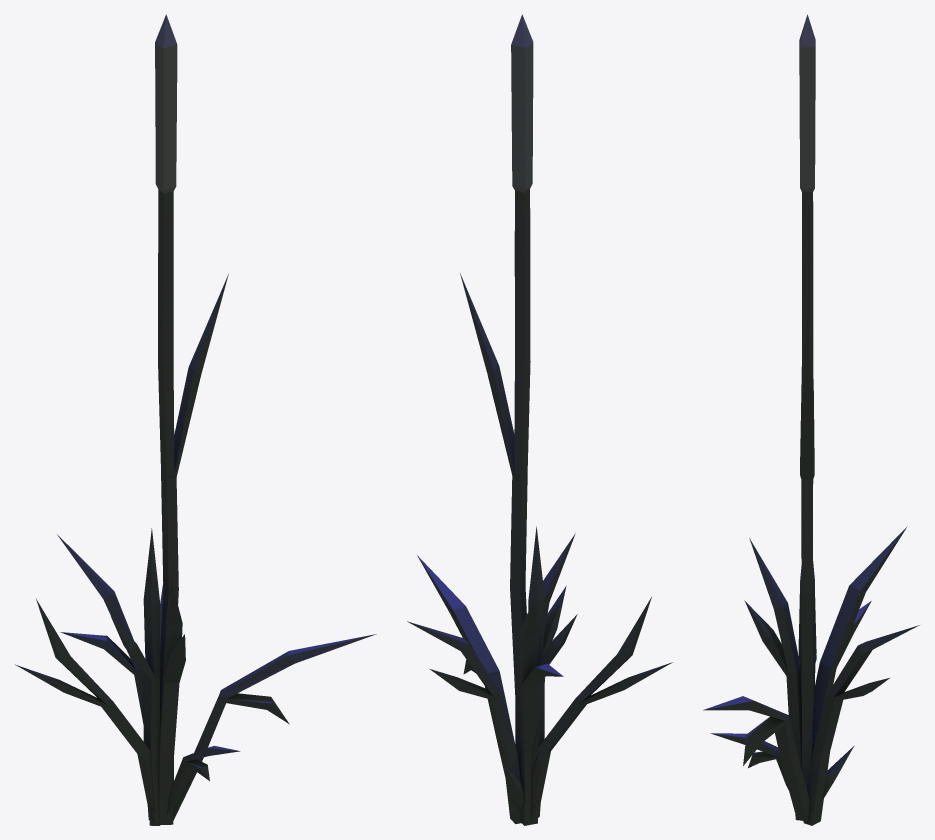
The model's file is westernwheatgrass-night.glb.
3 views of the same model, side by side, from view 1: azimuth 30°, elevation 25°; view 2: azimuth 150°, elevation 25°; view 3: azimuth 270°, elevation 25° (orthographic).
Parts seen in each view (by area): view 1: Western Wheatgrass.1stalk; view 2: Western Wheatgrass.1stalk; view 3: Western Wheatgrass.1stalk.
Boxes of the visible parts, bbox=[...] form: Western Wheatgrass.1stalk: bbox=[15, 14, 376, 825]; Western Wheatgrass.1stalk: bbox=[407, 14, 672, 825]; Western Wheatgrass.1stalk: bbox=[703, 14, 919, 825].
Bounding box in the file's own units: 0.2074 × 0.5152 × 0.1265.
Materials: 1 (1 with a texture image).
